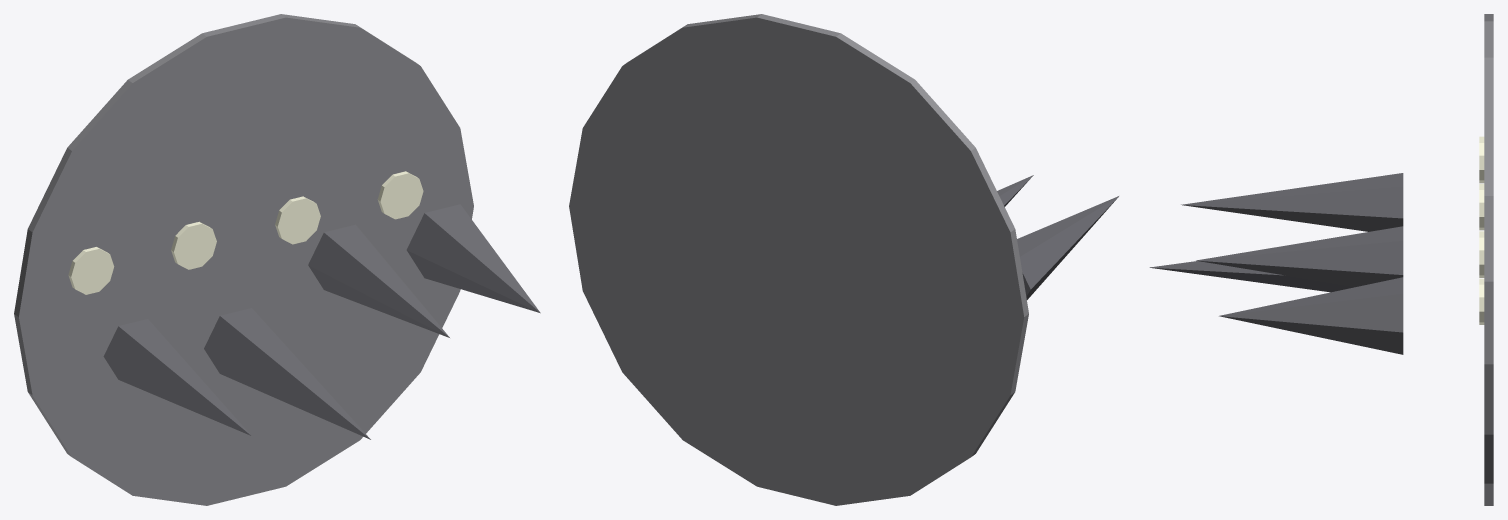
The model's file is 04_event_hazard_cluster.glb.
3 renders of one model, left to right at view 1: azimuth 30°, elevation 25°; view 2: azimuth 150°, elevation 25°; view 3: azimuth 270°, elevation 25°, orthographic. The views are drawn at different scales.
Visible parts, largest first — view 1: scatter_base, basalt_shard_1, basalt_shard_3, basalt_shard_2, basalt_shard_0, lava_glow_3, lava_glow_1, lava_glow_2, lava_glow_0; view 2: scatter_base, basalt_shard_0; view 3: basalt_shard_3, basalt_shard_0, basalt_shard_2, scatter_base, basalt_shard_1.
Part boxes in pixels (x1=…): scatter_base: x1=14, y1=14, x2=473, y2=505; basalt_shard_1: x1=204, y1=308, x2=370, y2=439; basalt_shard_3: x1=406, y1=204, x2=540, y2=313; basalt_shard_2: x1=308, y1=224, x2=449, y2=337; basalt_shard_0: x1=103, y1=319, x2=251, y2=435; lava_glow_3: x1=377, y1=171, x2=423, y2=219; lava_glow_1: x1=171, y1=221, x2=216, y2=269; lava_glow_2: x1=275, y1=196, x2=320, y2=244; lava_glow_0: x1=68, y1=247, x2=114, y2=294; scatter_base: x1=569, y1=14, x2=1028, y2=505; basalt_shard_0: x1=1017, y1=196, x2=1118, y2=299; basalt_shard_3: x1=1219, y1=277, x2=1403, y2=354; basalt_shard_0: x1=1181, y1=173, x2=1403, y2=231; basalt_shard_2: x1=1196, y1=226, x2=1403, y2=286; scatter_base: x1=1484, y1=14, x2=1493, y2=505; basalt_shard_1: x1=1149, y1=261, x2=1355, y2=292.
Size of the model in its own units: 1.9 by 1.87 by 1.33.
